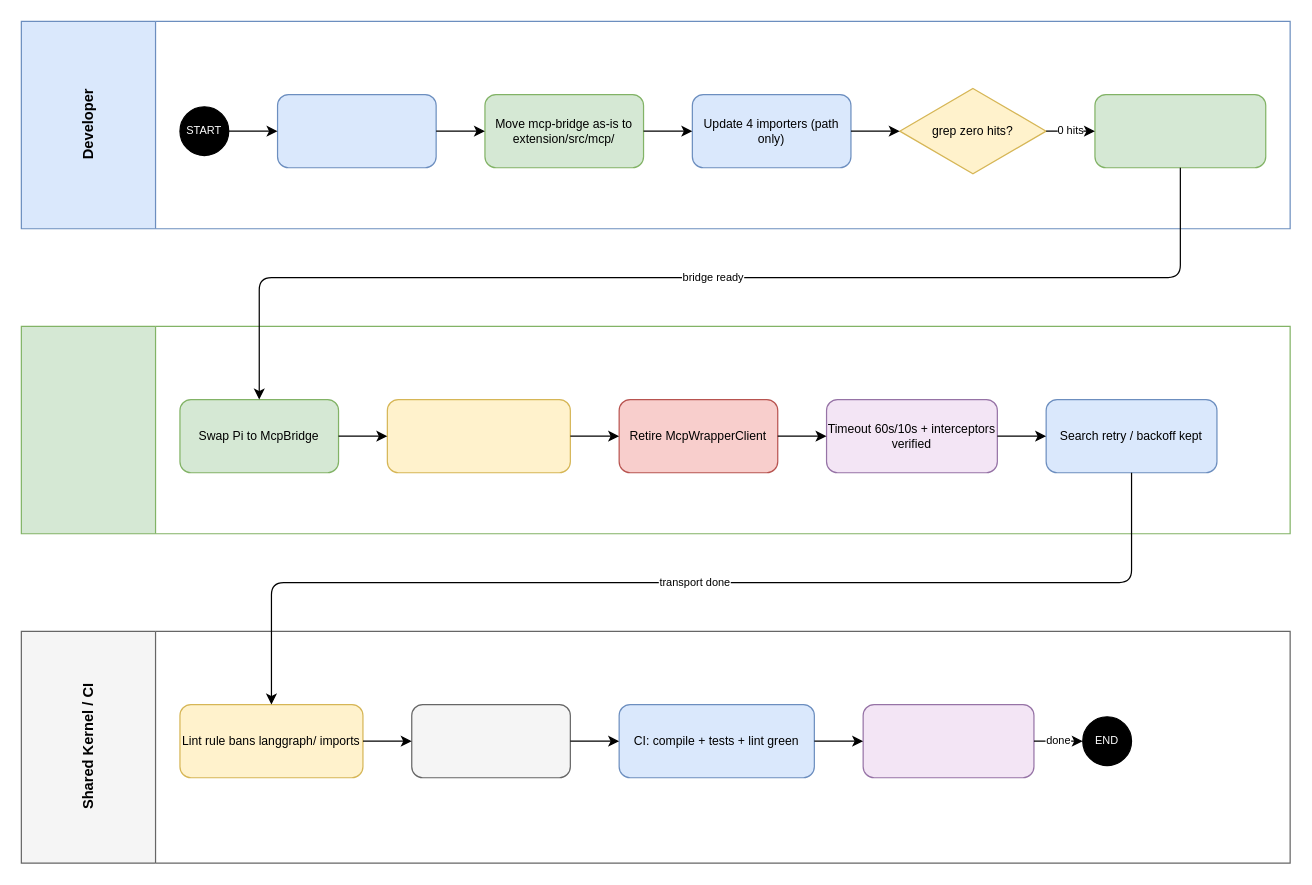
Some shapes in this 1312 by 885 pixel diagram are drawn without their labels. Each missing label, with the box of its shape:
Keep allowlist / approval / audit (SEC-324-03): (386, 398, 570, 473)
Move providers / stream / types / budget: (1094, 93, 1266, 168)
Pi Runtime: (20, 325, 1290, 534)
README FROZEN in langgraph/: (411, 703, 570, 778)
Verify reverse deps (grep langgraph/core): (276, 93, 436, 168)
Zero behavior diff confirmed: (862, 703, 1034, 778)
